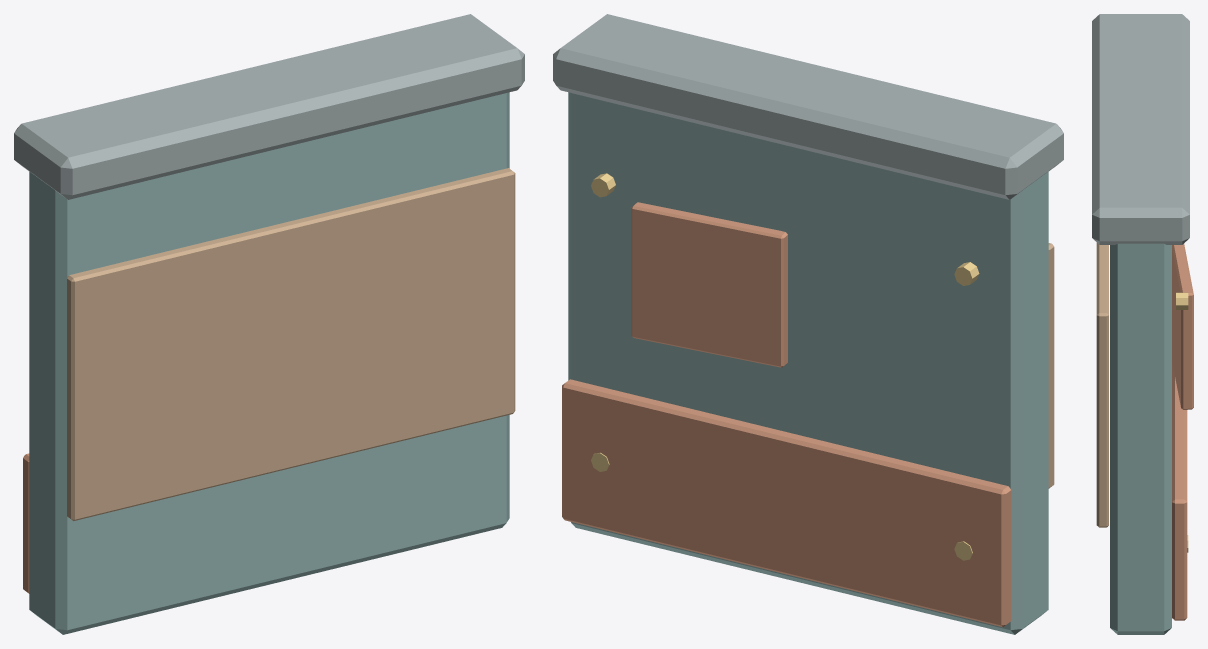
The model's file is wall_low_1m.glb.
3 views of the same model, side by side, from view 1: azimuth 30°, elevation 25°; view 2: azimuth 150°, elevation 25°; view 3: azimuth 270°, elevation 25° (orthographic). The views are drawn at different scales.
Visible parts, largest first — view 1: wall_low_1m; view 2: wall_low_1m; view 3: wall_low_1m.
Boxes of the visible parts, x1,y1,x2,y2 form: wall_low_1m: [14, 14, 524, 634]; wall_low_1m: [553, 14, 1063, 634]; wall_low_1m: [1092, 14, 1193, 634].
Size of the model in its own units: 0.92 by 0.92 by 0.1977.
